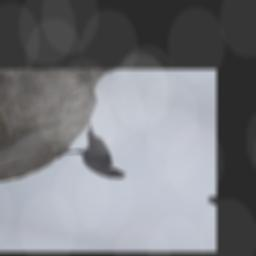Crow: (54, 121, 151, 182)
